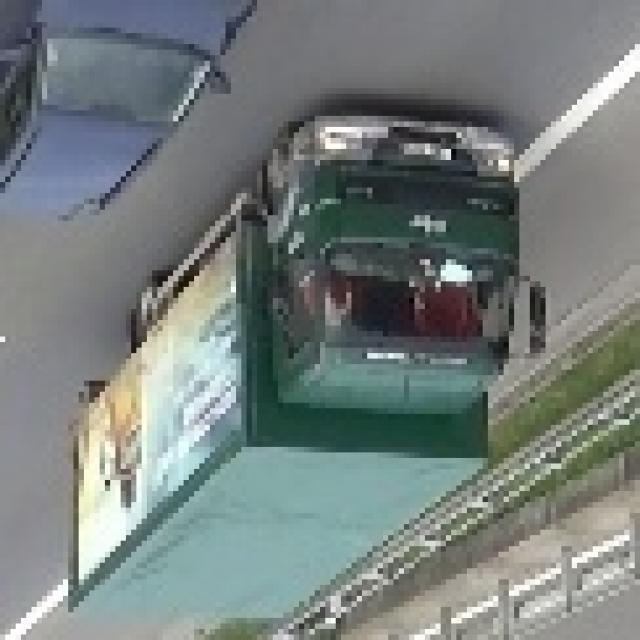truck: (62, 116, 540, 634)
